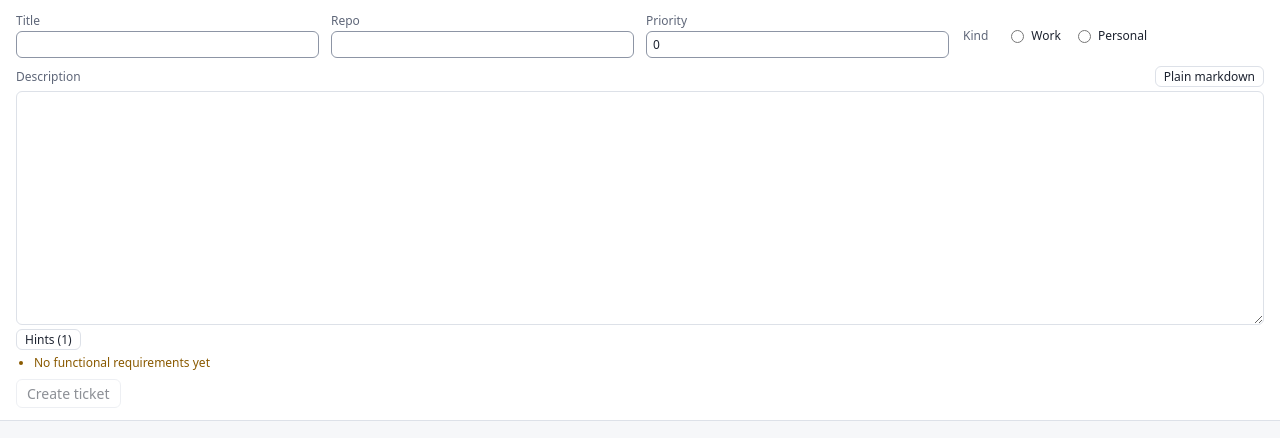
Repo field (searchable, most used first) › a click picks an option
In the field labelled "Title": (168, 44) [16,31,319,58], type "T"
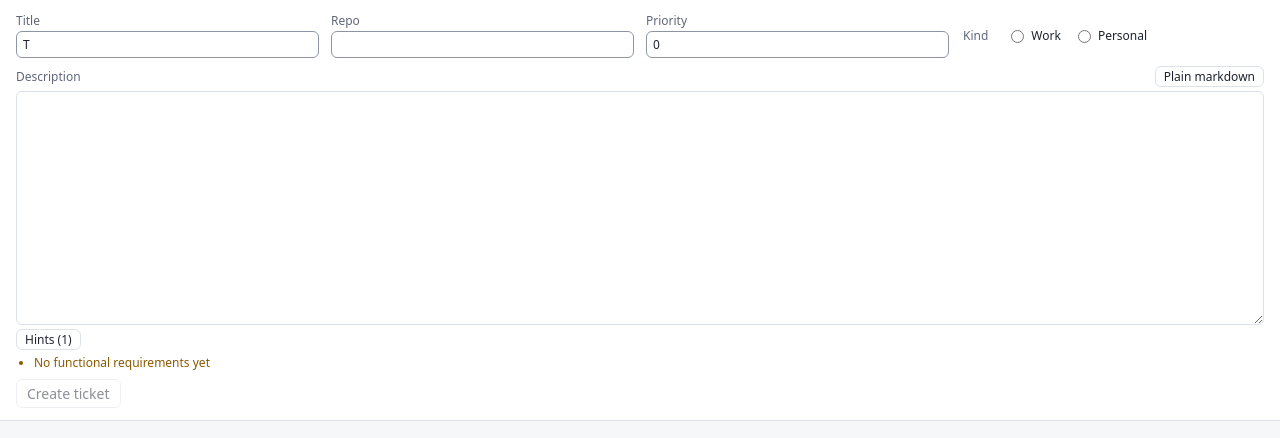
Click the radio button labelled "Work": (1018, 36) [1011,30,1024,43]
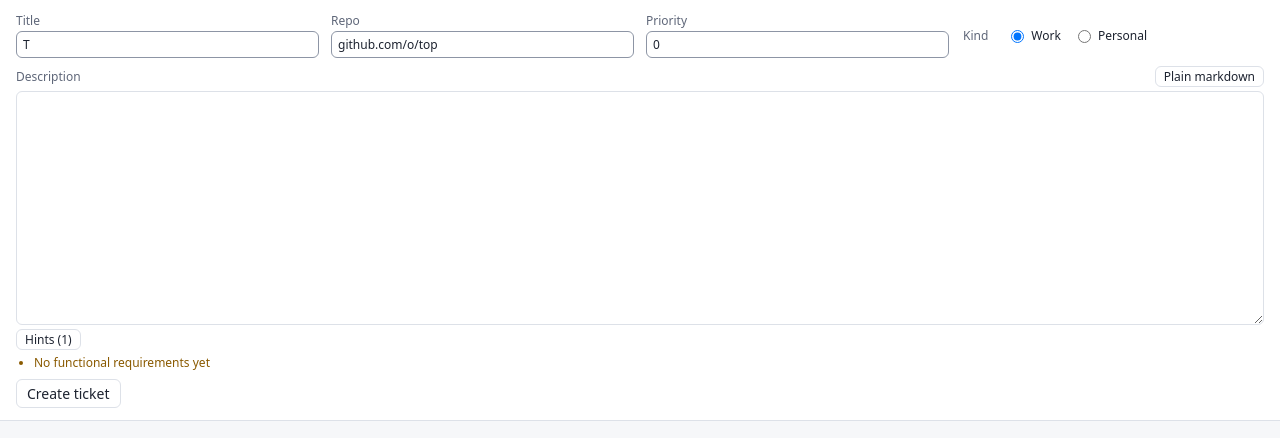
expect the dropdown labelled "Repo" holds "github.com/o/top": met
Focus the dropdown labelled "Repo": (482, 44) [331,31,634,58]
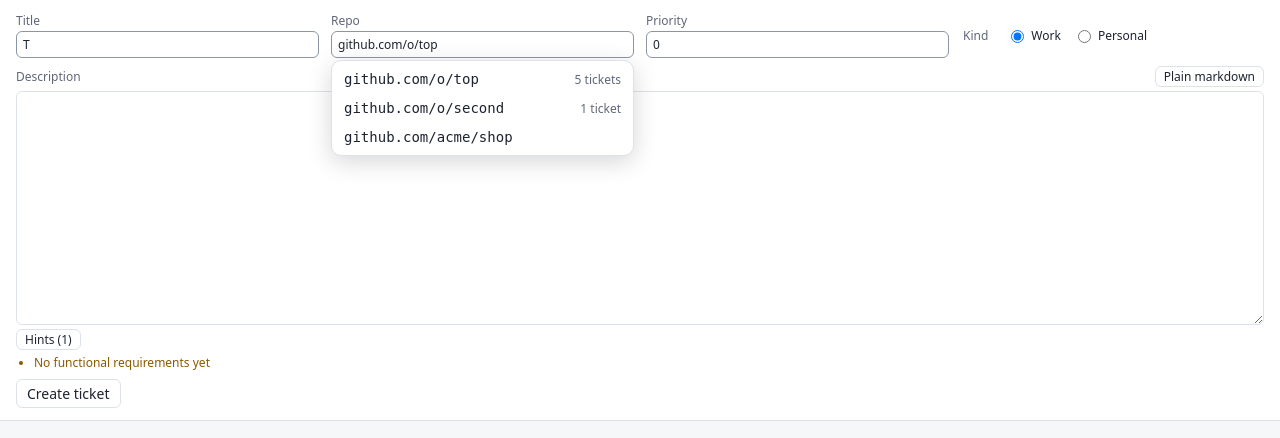
Click the option "github.com/acme/shop": (428, 137) [344,129,513,145]
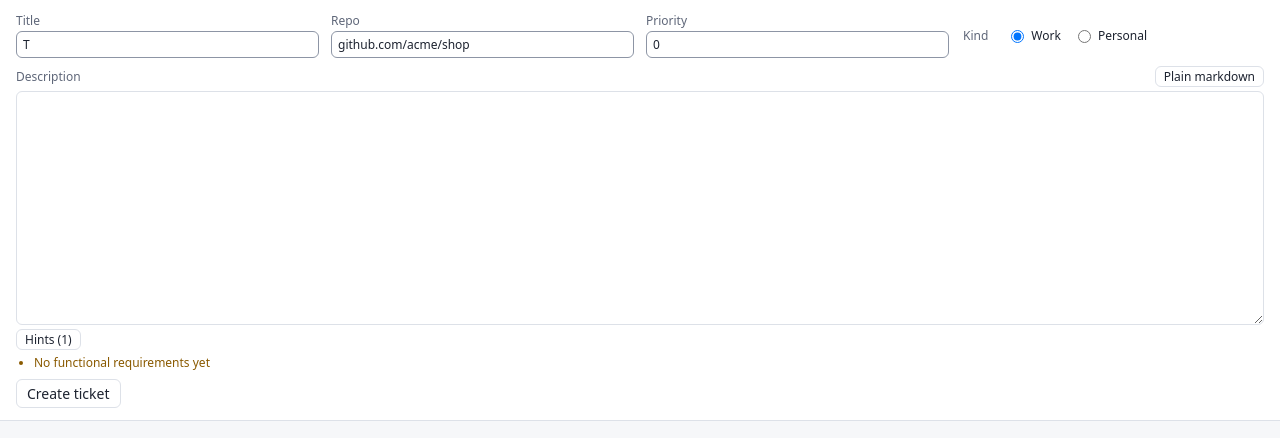
expect the dropdown labelled "Repo" holds "github.com/acme/shop": met, box [331,31,634,58]
